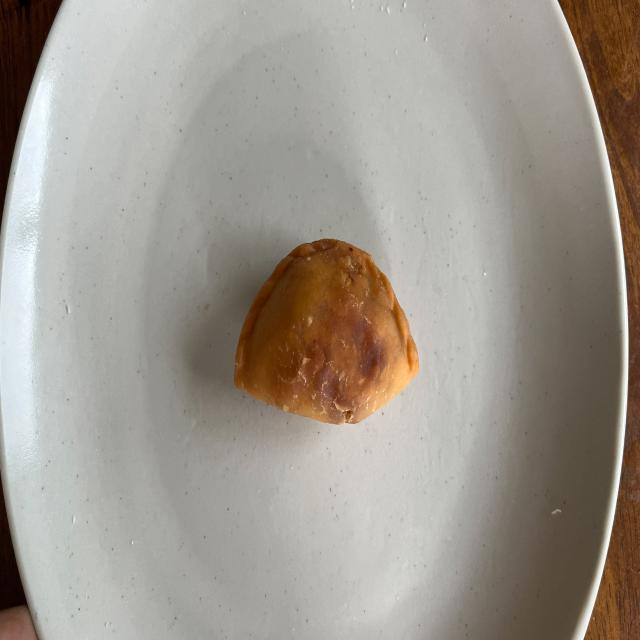karipap: (234, 240, 419, 424)
